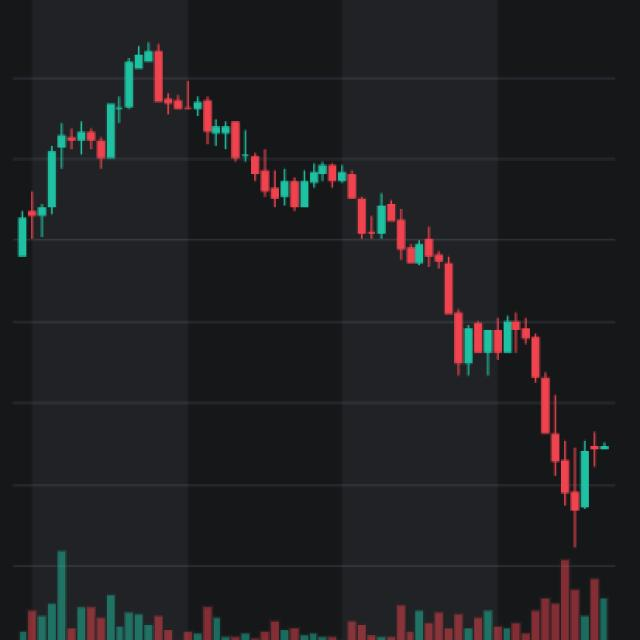Support-breakout: (19, 42, 597, 520)
